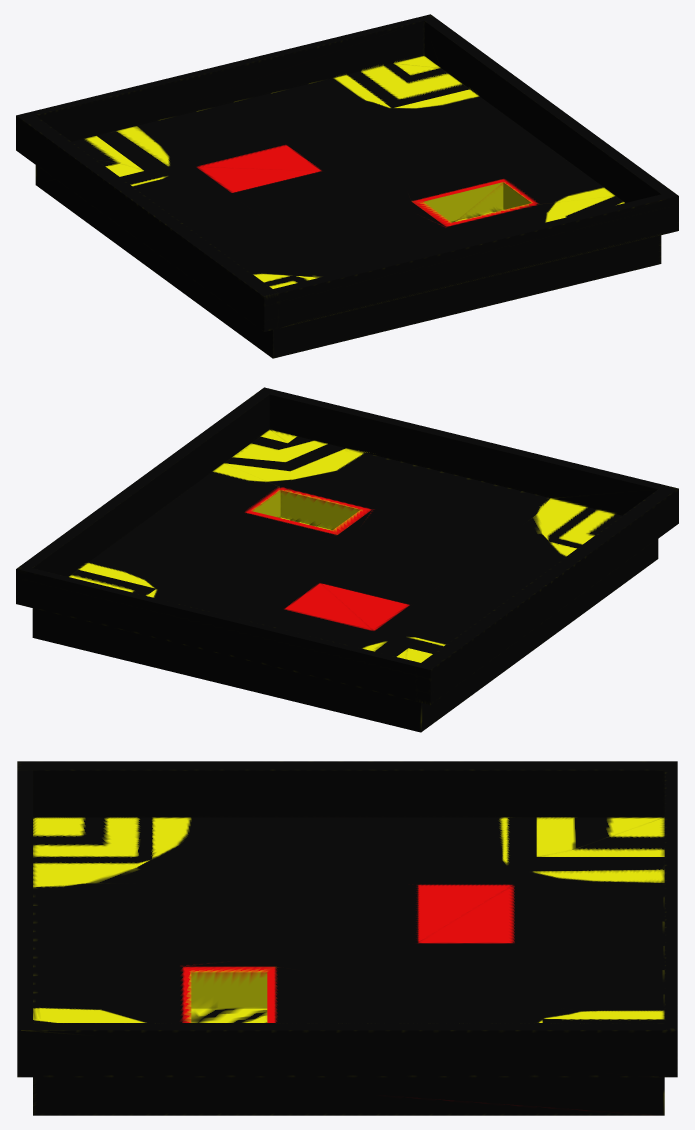
Rendered from Arena.glb.
3 renders of one model, top to bottom at view 1: azimuth 30°, elevation 25°; view 2: azimuth 150°, elevation 25°; view 3: azimuth 270°, elevation 25°, orthographic. The views are drawn at different scales.
Parts seen in each view (by area): view 1: node_id7; view 2: node_id7; view 3: node_id7.
Part boxes in pixels (left/top/right/bottom): node_id7: left=16, top=14, right=678, bottom=358; node_id7: left=16, top=387, right=678, bottom=732; node_id7: left=17, top=761, right=677, bottom=1115.
Bounding box in the file's own units: 0.512 × 0.0813 × 0.5304.
Materials: 6 (5 with a texture image).
